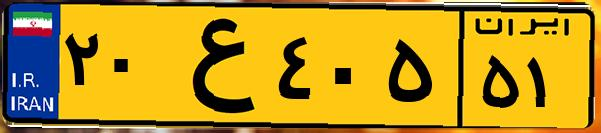0: (330, 28, 385, 110), (110, 28, 158, 98)
1: (525, 38, 570, 115)
2: (57, 26, 110, 100)
4: (270, 28, 330, 110)
5: (385, 28, 445, 110), (475, 38, 525, 113)
ع: (158, 12, 270, 120)
